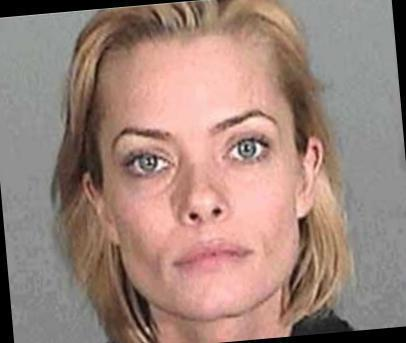Drunk: (112, 42, 304, 319)
